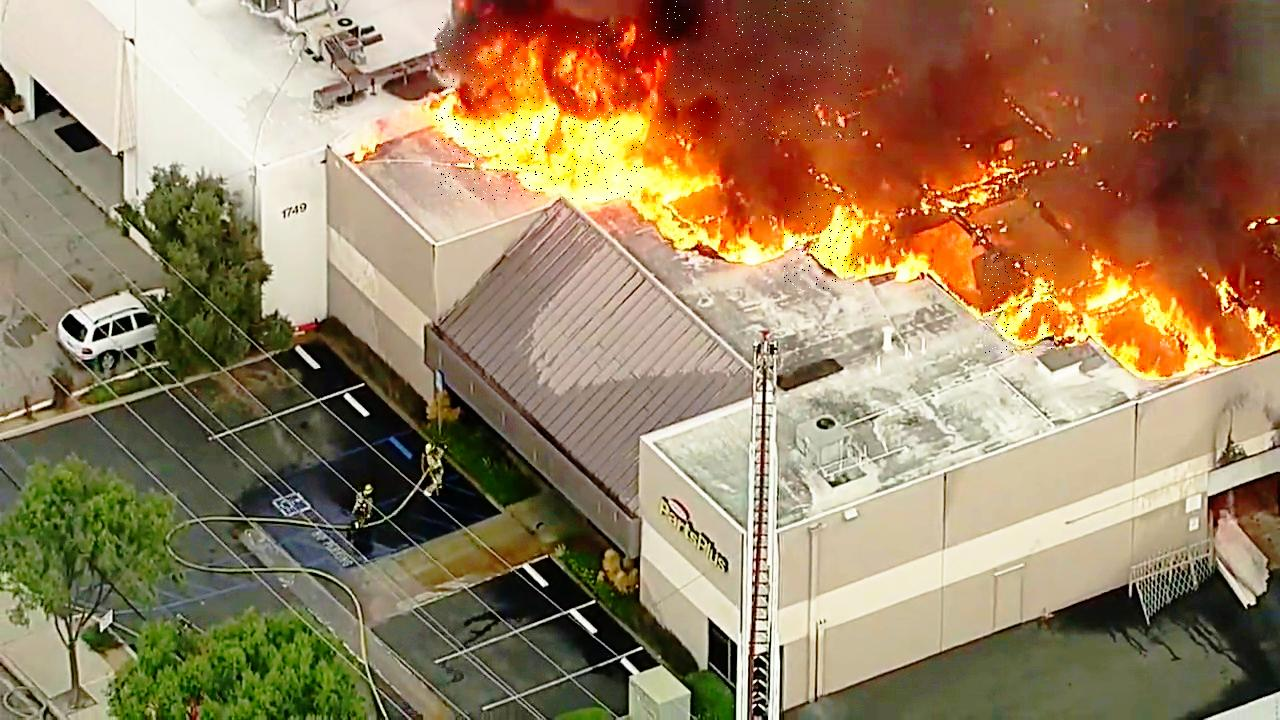fire: (435, 22, 643, 200), (650, 1, 862, 142), (785, 192, 861, 291), (984, 254, 1057, 354)
